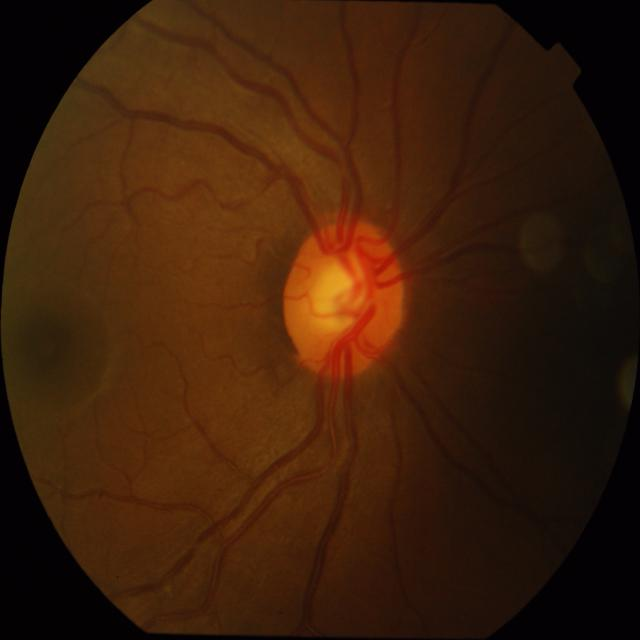OC: (302, 244, 379, 341)
OD: (281, 220, 406, 376)
